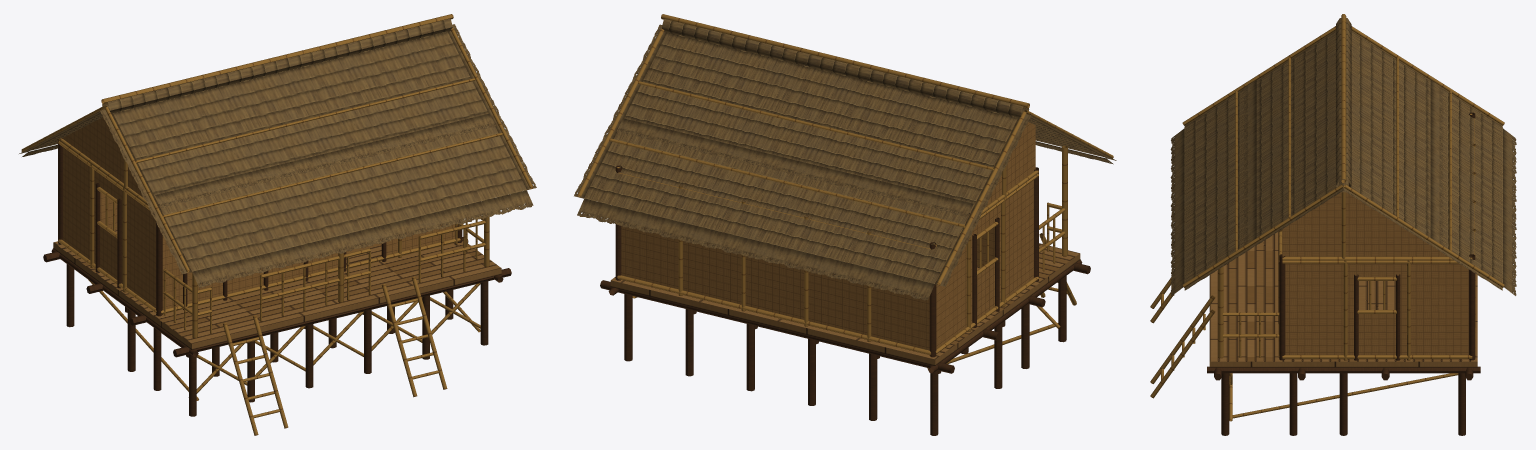
3 renders of one model, left to right at view 1: azimuth 30°, elevation 25°; view 2: azimuth 150°, elevation 25°; view 3: azimuth 270°, elevation 25°, orthographic. The views are drawn at different scales.
Visible parts, largest first — view 1: hut_mandaya_0; view 2: hut_mandaya_0; view 3: hut_mandaya_0.
Boxes of the visible parts, x1,y1,x2,y2 form: hut_mandaya_0: [19, 14, 536, 435]; hut_mandaya_0: [574, 14, 1116, 435]; hut_mandaya_0: [1150, 14, 1516, 435].
Bounding box in the file's own units: 7.26 × 5.31 × 6.64.
6 materials, 6 textured.
